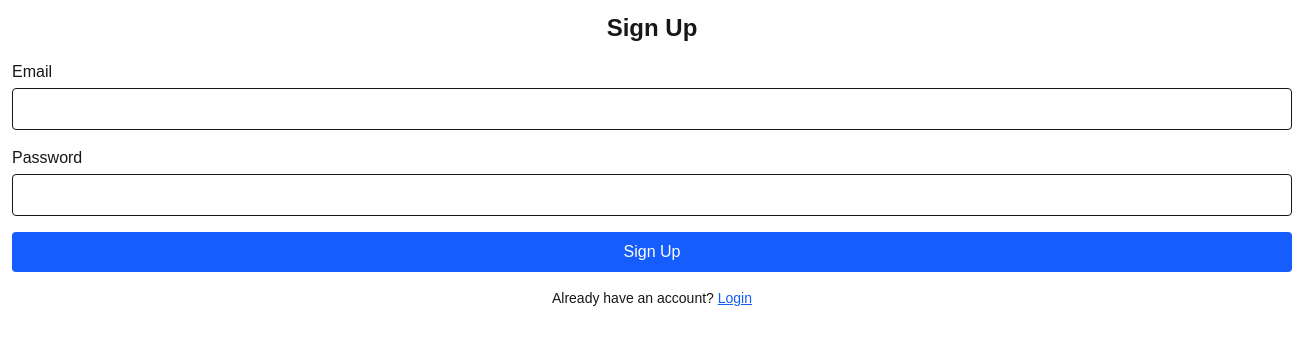
Test: auth flow › shows an error for duplicate signup email
This screenshot has width=1304, height=359.
In the field with test id "auth-signup-email": (652, 109) [12,88,1292,130], type "test@test.com"
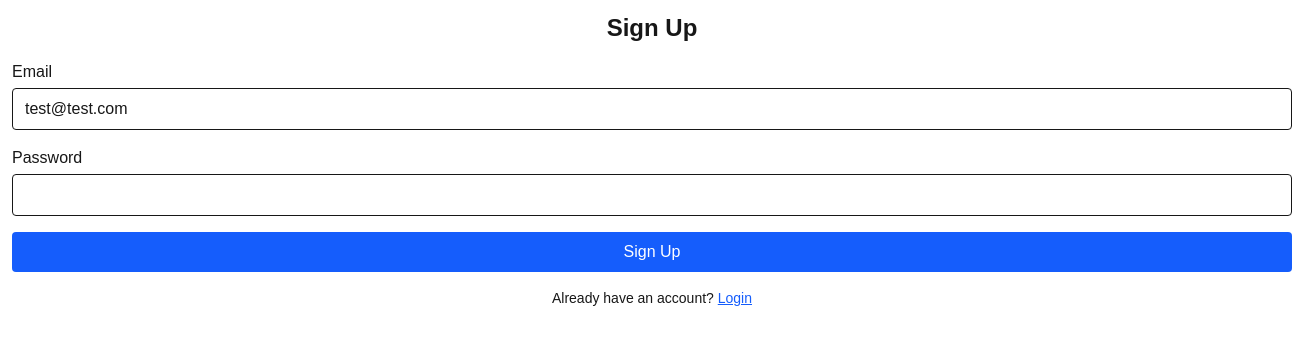
In the password field with test id "auth-signup-password": (652, 195) [12,174,1292,216], type "password123"
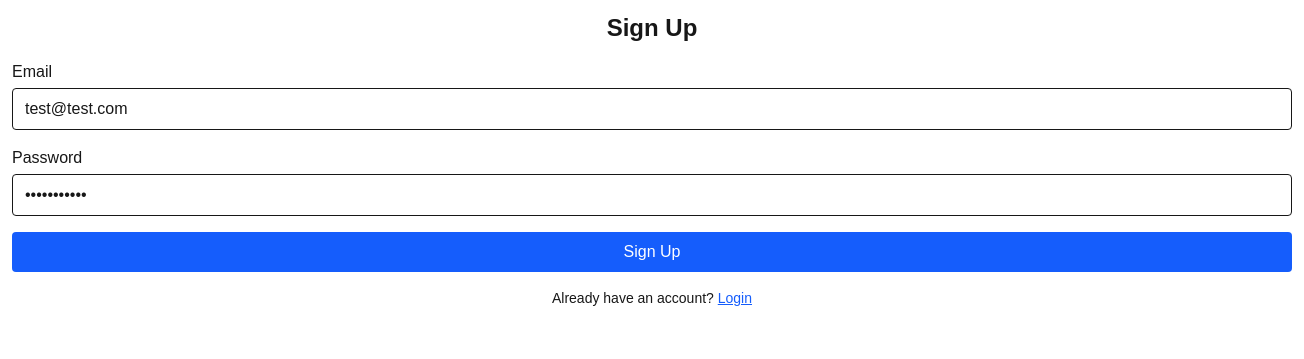
Click the button with test id "auth-signup-submit": (652, 252) [12,232,1292,272]
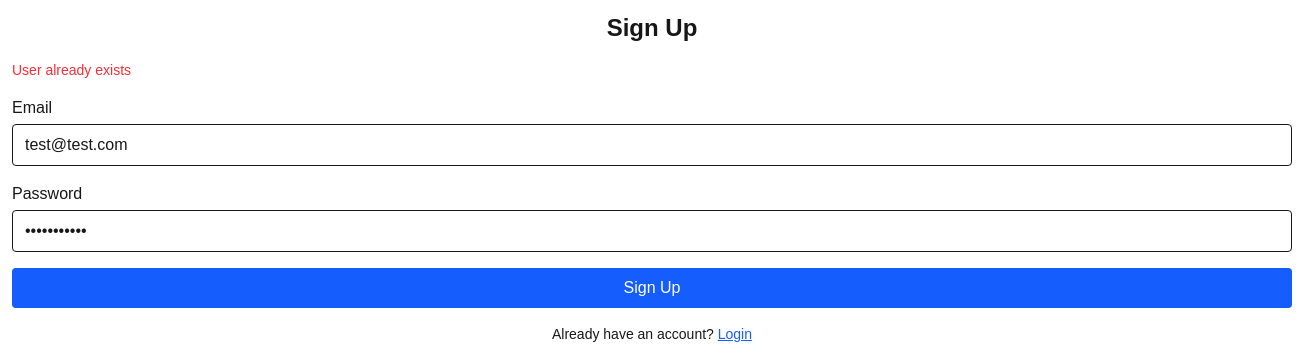
Expected: the text "User already exists" is shown, [12,62,131,78]
